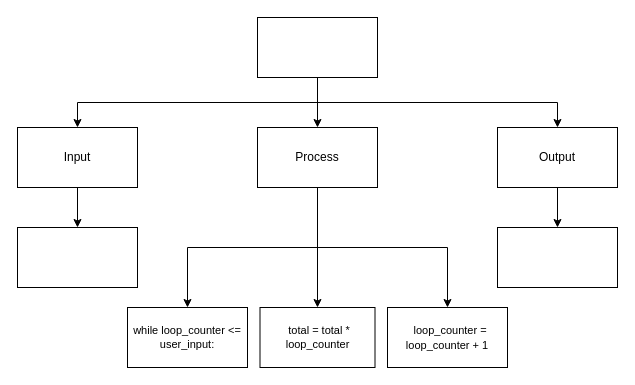
Some shapes in this 635 by 385 pixel diagram are drawn without their labels. The centre of each missing label's shape, as x and y in pixels:
factorial: pixel 317 47
get user_input: pixel 77 257
Show answer: pixel 557 257
